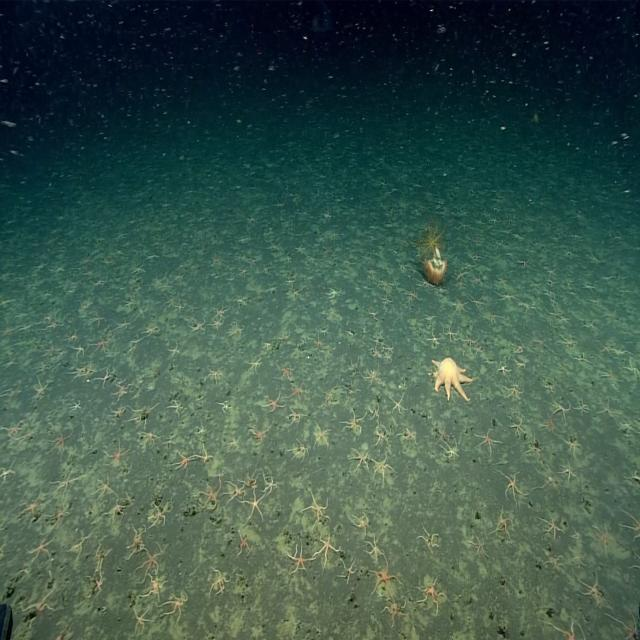brittle-stars: (371, 560, 400, 597), (417, 576, 444, 612), (314, 532, 338, 568), (383, 593, 408, 626), (54, 469, 82, 498), (92, 472, 120, 501), (611, 612, 640, 640), (580, 574, 605, 606), (138, 545, 162, 578), (23, 589, 54, 614), (501, 470, 525, 502), (552, 619, 588, 640), (306, 491, 330, 522), (165, 591, 189, 622), (200, 479, 222, 512), (342, 354, 362, 389), (104, 441, 129, 468), (146, 498, 170, 526), (288, 544, 310, 574), (591, 522, 613, 552), (536, 464, 559, 492), (96, 534, 113, 571), (50, 429, 74, 455), (597, 396, 619, 424), (31, 536, 54, 562), (208, 567, 230, 594), (494, 509, 513, 540), (373, 451, 393, 480), (244, 493, 264, 522), (622, 509, 640, 541), (23, 489, 43, 517), (375, 424, 397, 449), (343, 408, 365, 432), (477, 428, 499, 452), (418, 526, 439, 551), (129, 526, 147, 555), (144, 574, 164, 600), (131, 406, 155, 427), (347, 450, 370, 471), (542, 514, 562, 538), (237, 470, 261, 490), (468, 532, 486, 558), (227, 479, 248, 501), (265, 390, 286, 412), (550, 398, 570, 421), (313, 421, 330, 448), (107, 498, 126, 522), (248, 423, 268, 445), (2, 420, 24, 440), (134, 609, 152, 633), (88, 570, 105, 595), (289, 440, 308, 462), (288, 380, 306, 403), (52, 504, 70, 527), (540, 414, 558, 436), (173, 452, 193, 471), (543, 552, 563, 571), (32, 378, 49, 400), (560, 460, 577, 482), (366, 536, 383, 558), (341, 559, 357, 582), (0, 463, 16, 486), (504, 383, 524, 401), (238, 531, 252, 556), (402, 426, 420, 445), (600, 364, 619, 382), (196, 444, 213, 464), (352, 514, 369, 534), (94, 336, 112, 354), (362, 366, 379, 385), (324, 384, 338, 407), (511, 416, 527, 436), (246, 356, 263, 374), (168, 397, 185, 415), (444, 323, 460, 342), (391, 394, 406, 414), (569, 550, 584, 570), (141, 430, 159, 446), (277, 362, 293, 380), (559, 334, 577, 350), (289, 408, 305, 426), (444, 440, 459, 459), (207, 366, 224, 382), (113, 382, 129, 399), (90, 312, 107, 328), (215, 398, 232, 414), (573, 398, 588, 416), (264, 476, 278, 495), (452, 298, 468, 314), (462, 335, 478, 351), (214, 303, 230, 319), (496, 358, 511, 375), (567, 438, 581, 456), (496, 289, 514, 303), (98, 369, 112, 387), (136, 302, 150, 320), (190, 318, 205, 334), (468, 293, 484, 308), (110, 405, 126, 420), (231, 321, 246, 337), (46, 316, 61, 332), (437, 425, 451, 442), (367, 404, 379, 423), (405, 286, 420, 301), (143, 324, 159, 338), (72, 344, 86, 360), (483, 308, 499, 322), (115, 318, 131, 332), (169, 340, 180, 360), (426, 331, 440, 346), (517, 256, 532, 270), (210, 316, 224, 331), (186, 300, 199, 316), (132, 264, 146, 278), (326, 286, 341, 299), (514, 341, 527, 356), (314, 335, 326, 351), (379, 278, 394, 290), (371, 346, 383, 361), (152, 273, 164, 288), (496, 274, 508, 288), (197, 422, 207, 438), (366, 306, 378, 319), (70, 399, 82, 411), (238, 266, 250, 278), (384, 343, 395, 356), (261, 341, 272, 352)
